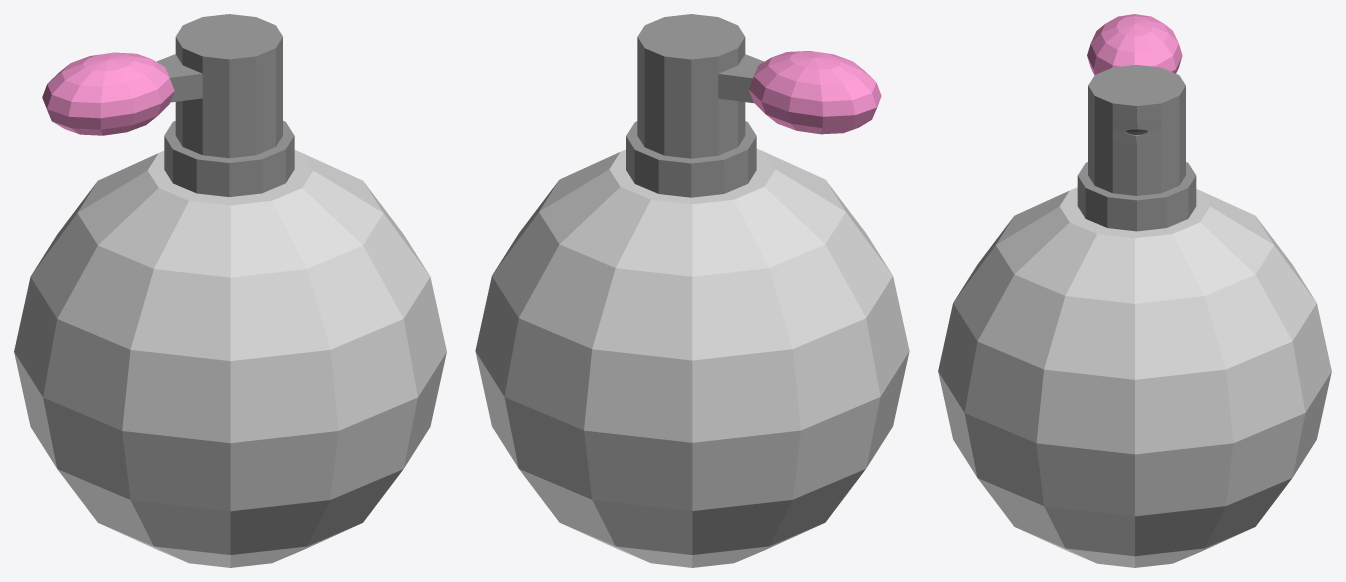
Rendered from Perfume.fbx.
The picture shows the model from 3 angles, left to right: view 1: azimuth 30°, elevation 25°; view 2: azimuth 150°, elevation 25°; view 3: azimuth 270°, elevation 25°; orthographic projection. The views are drawn at different scales.
Visible parts, largest first — view 1: Perfume; view 2: Perfume; view 3: Perfume.
Boxes of the visible parts, x1,y1,x2,y2 form: Perfume: (14, 14, 446, 567); Perfume: (475, 14, 909, 567); Perfume: (938, 14, 1331, 567).
Bounding box in the file's own units: 200 × 257 × 200.
